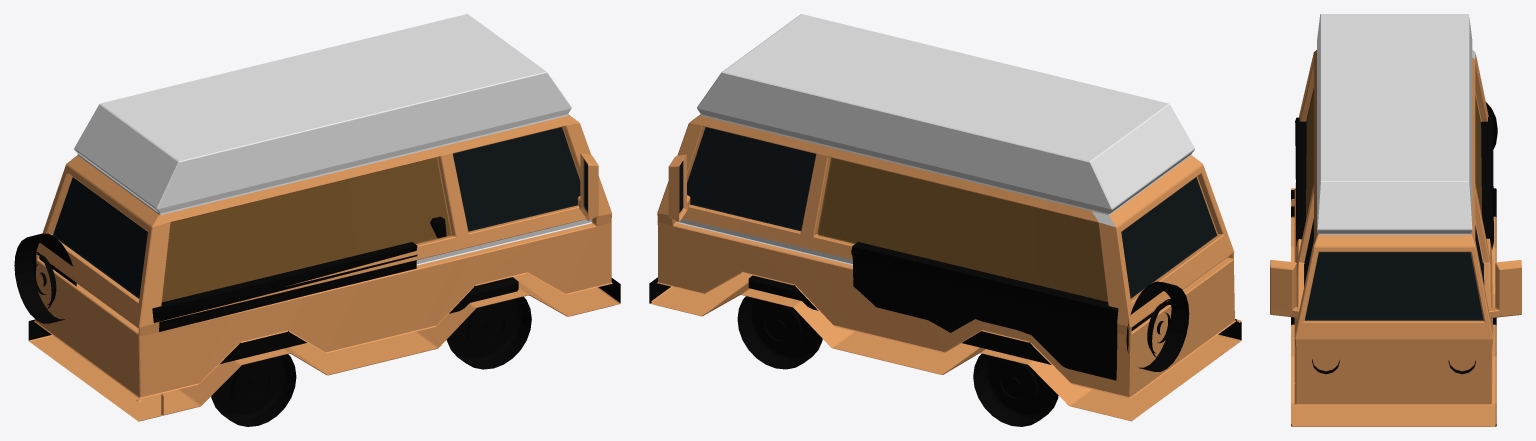
File: PartyBusInterior.fbx
The picture shows the model from 3 angles, left to right: view 1: azimuth 30°, elevation 25°; view 2: azimuth 150°, elevation 25°; view 3: azimuth 270°, elevation 25°; orthographic projection. The views are drawn at different scales.
Visible parts, largest first — view 1: BusInside, Cube.026, Cube.023; view 2: BusInside, Cube.027, Cube.025; view 3: BusInside, Cube.027, Cube.026.
Boxes of the visible parts, x1,y1,x2,y2 form: BusInside: (14, 14, 620, 426); Cube.026: (152, 242, 417, 363); Cube.023: (430, 216, 518, 313); BusInside: (649, 14, 1241, 426); Cube.027: (851, 242, 1118, 380); Cube.025: (748, 275, 818, 310); BusInside: (1270, 14, 1521, 426); Cube.027: (1481, 117, 1494, 249); Cube.026: (1295, 117, 1306, 246).
Bounding box in the file's own units: 1393 × 737 × 654.
